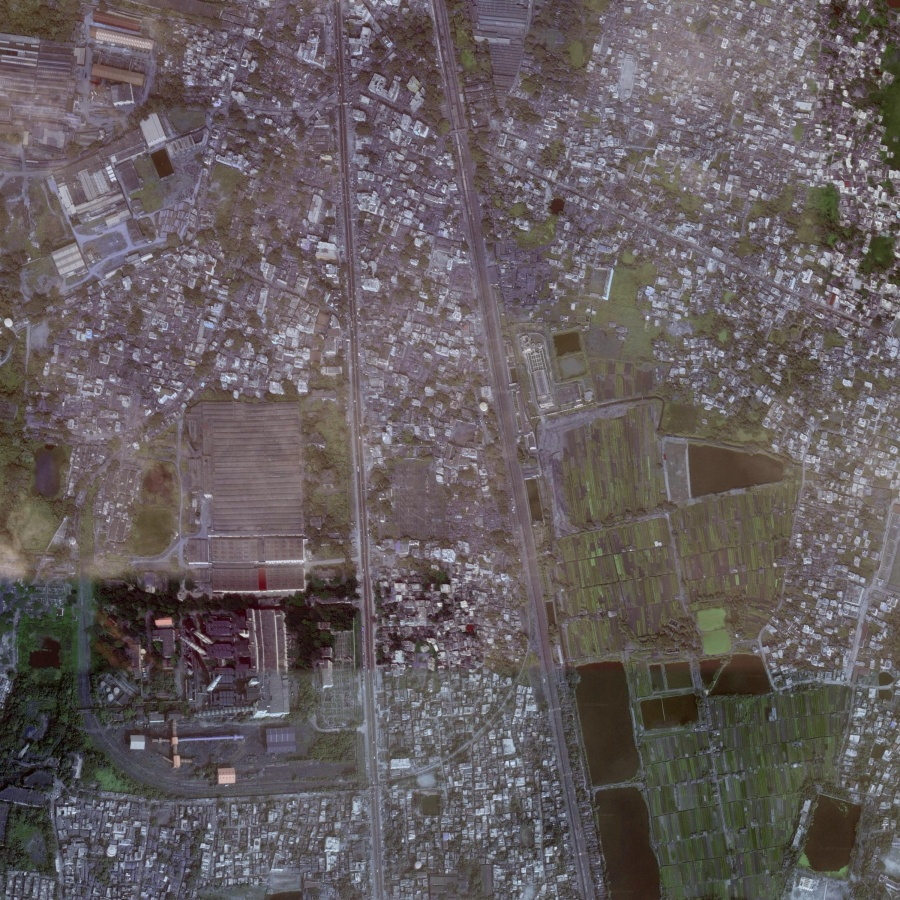PowerPlant: (84, 544, 329, 783)
